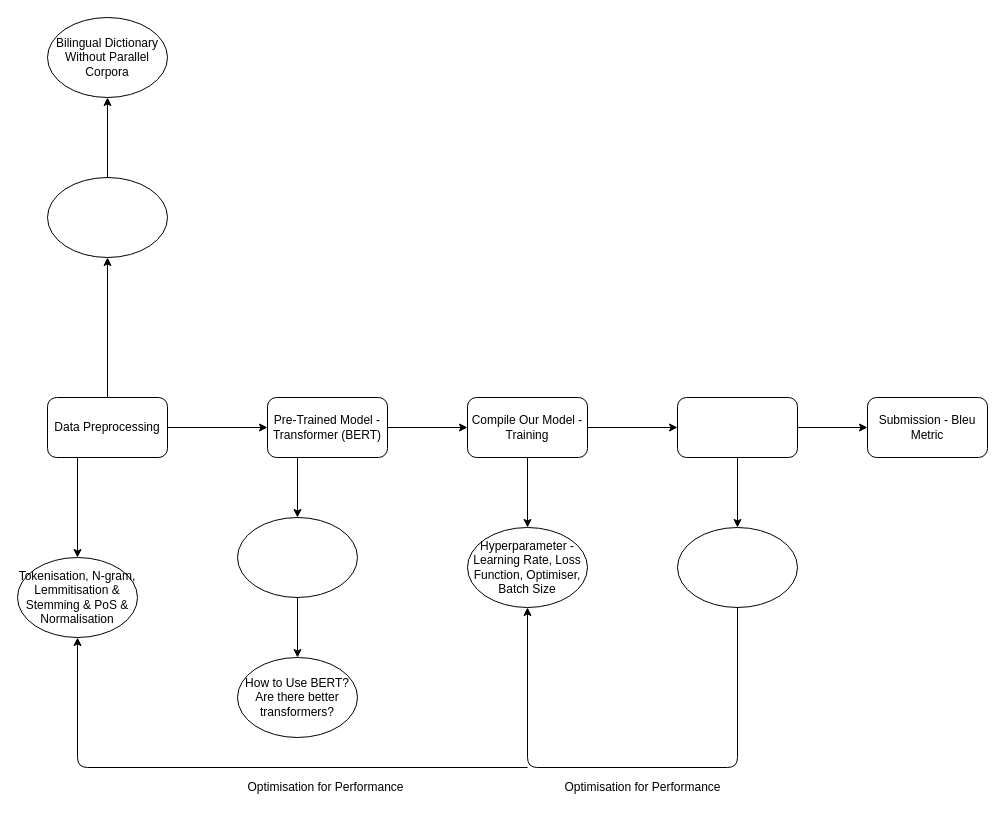
The diagram is 1005 pixels wide and 815 high, and some of its shapes have lost their labels. Here are the shapes that lost their labels. From the top down, the centre of each, then its label:
At point (107, 217): "Word Embedding using MUSE".
At point (737, 427): "Prediction with Test".
At point (297, 557): "Translation - Encode & Decode".
At point (737, 567): "Manual Testing & Open Source Bleu Metric Test".
